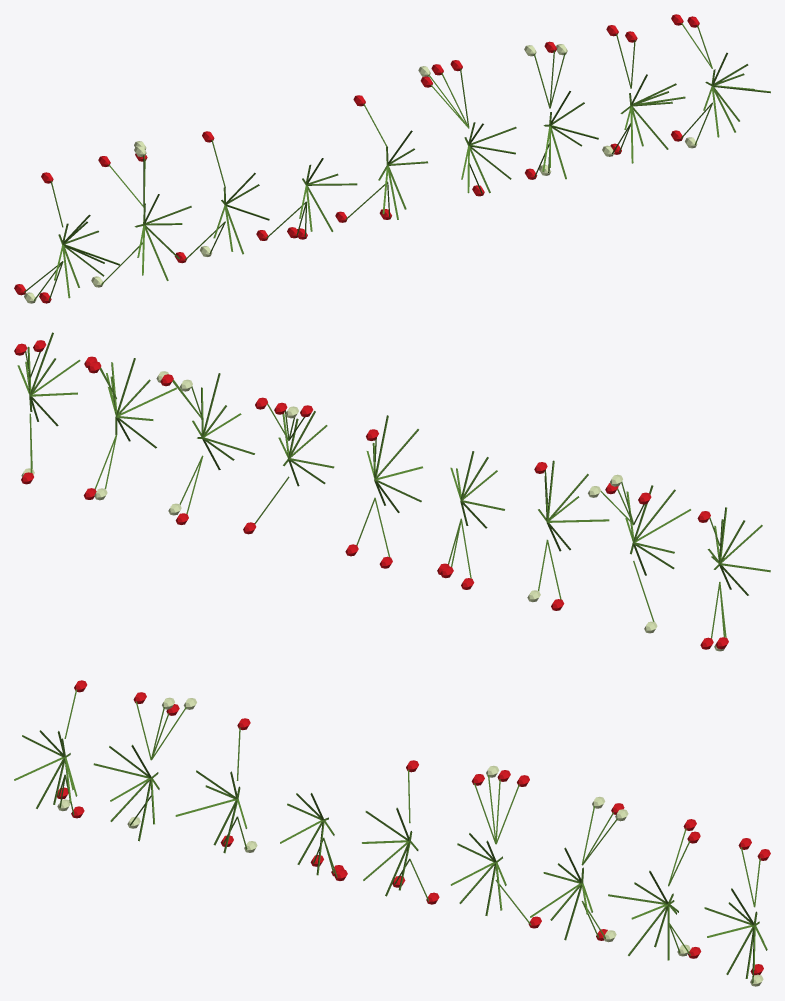
Rendered from r28c4_rest.obj.
3 views of the same model, one above another, from view 1: azimuth 30°, elevation 25°; view 2: azimuth 150°, elevation 25°; view 3: azimuth 330°, elevation 25° (orthographic). The views are drawn at different scales.
Visible parts, largest first — view 1: r28c4_rest; view 2: r28c4_rest; view 3: r28c4_rest.
Boxes of the visible parts, x1,y1,x2,y2 form: r28c4_rest: [14, 14, 770, 303]; r28c4_rest: [14, 332, 770, 651]; r28c4_rest: [14, 680, 770, 986].
Bounding box in the file's own units: 2.2 × 0.4029 × 0.2582.
